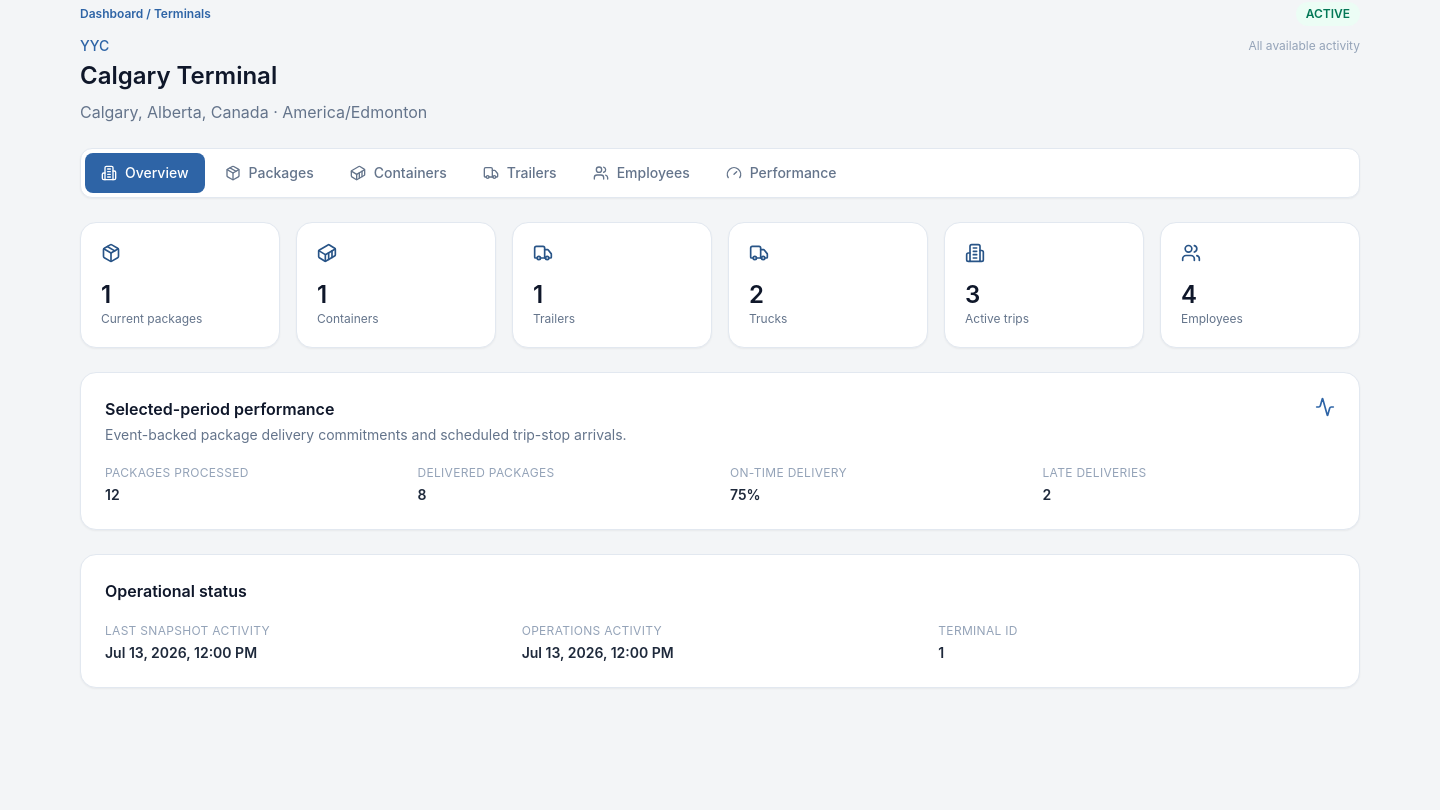
Test: TerminalDetailPage integration › renders linked terminal tabs for inventory, movements, employees, and performance
Expected: the heading "Calgary Terminal" is shown, [80, 61, 277, 90]
Click the tab "Packages".
click(269, 173)  # box [208, 153, 330, 193]
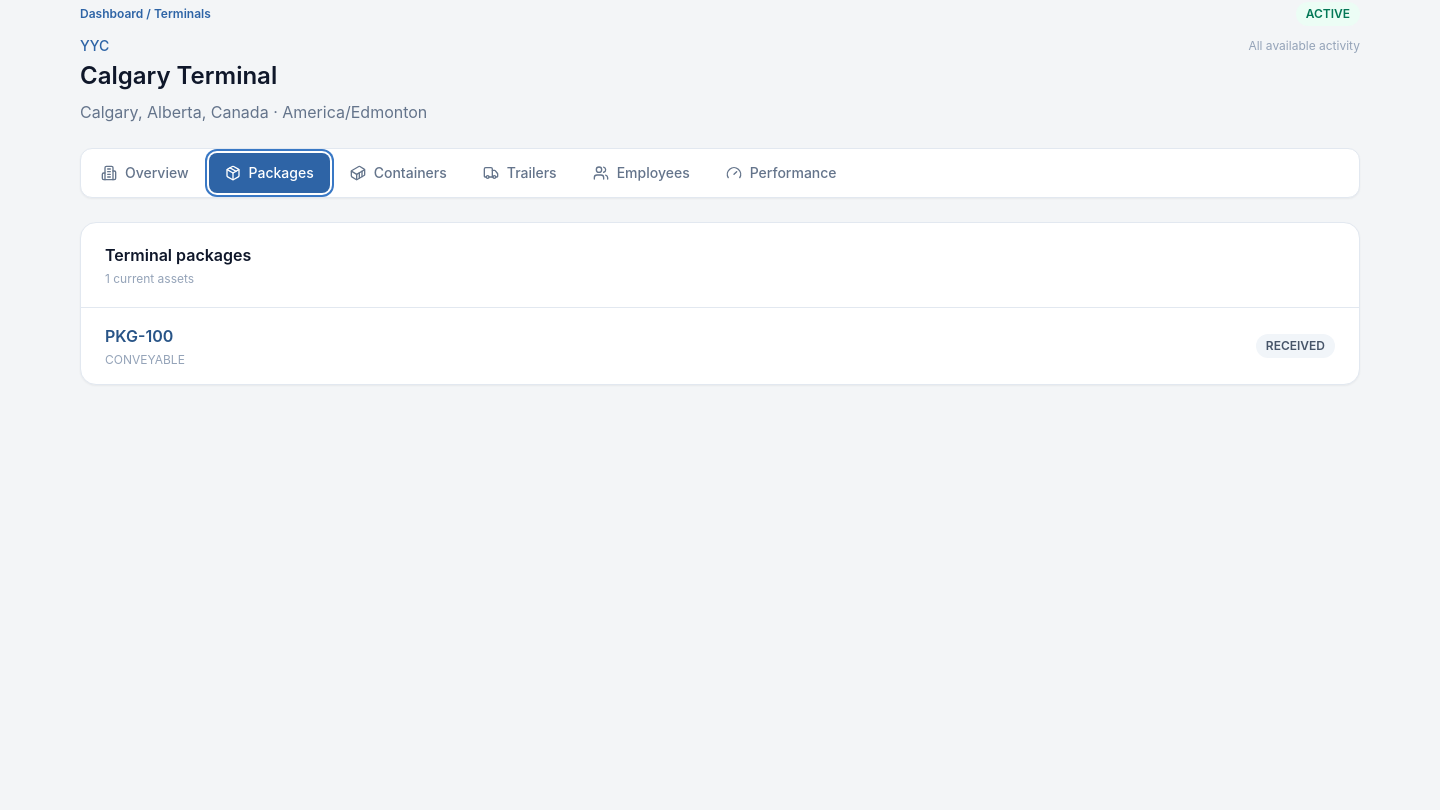
Click the tab "Trailers".
click(520, 173)  # box [467, 153, 573, 193]
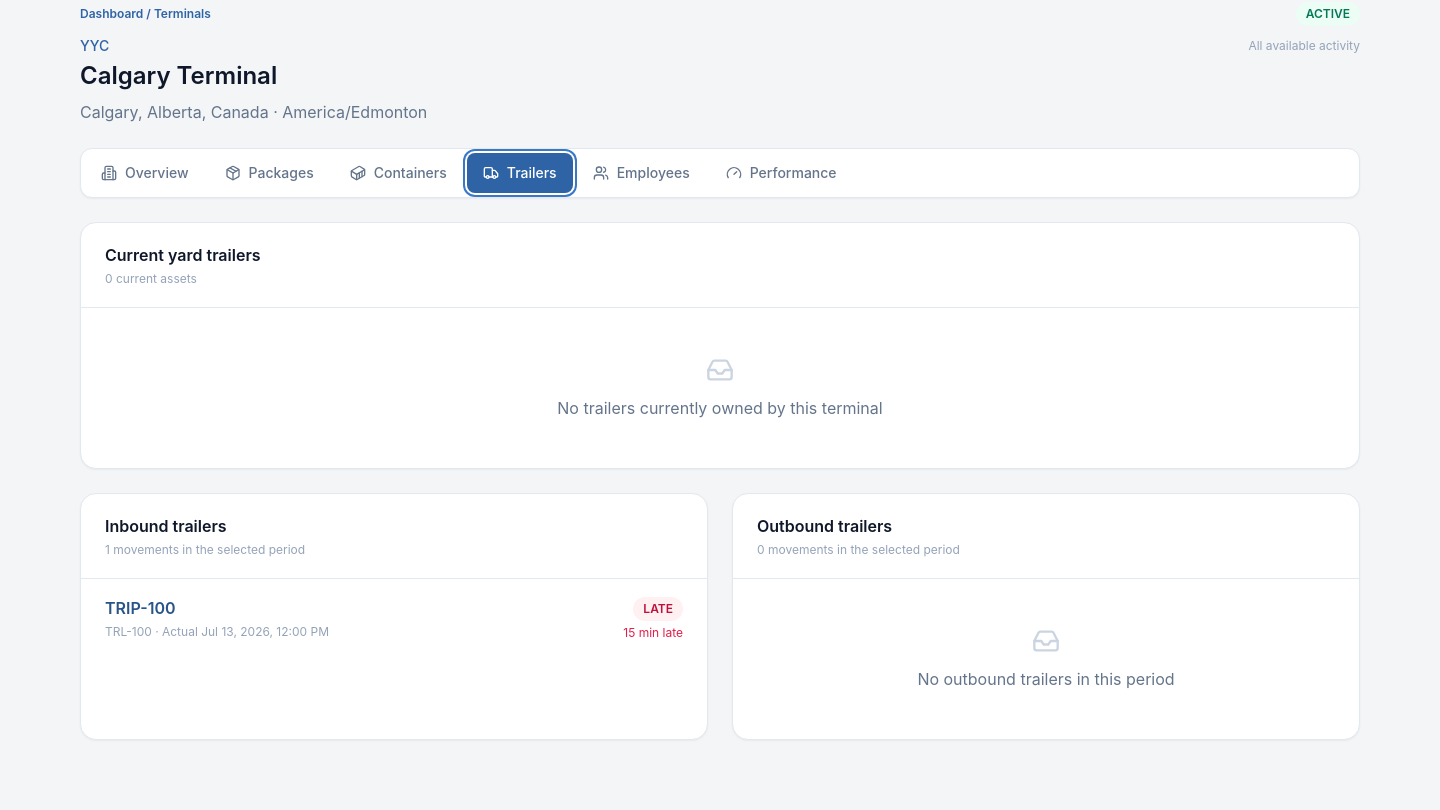
Expected: the heading "Inbound trailers" is shown, [105, 516, 227, 536]
Click the tab "Employees".
click(641, 173)  # box [577, 153, 706, 193]
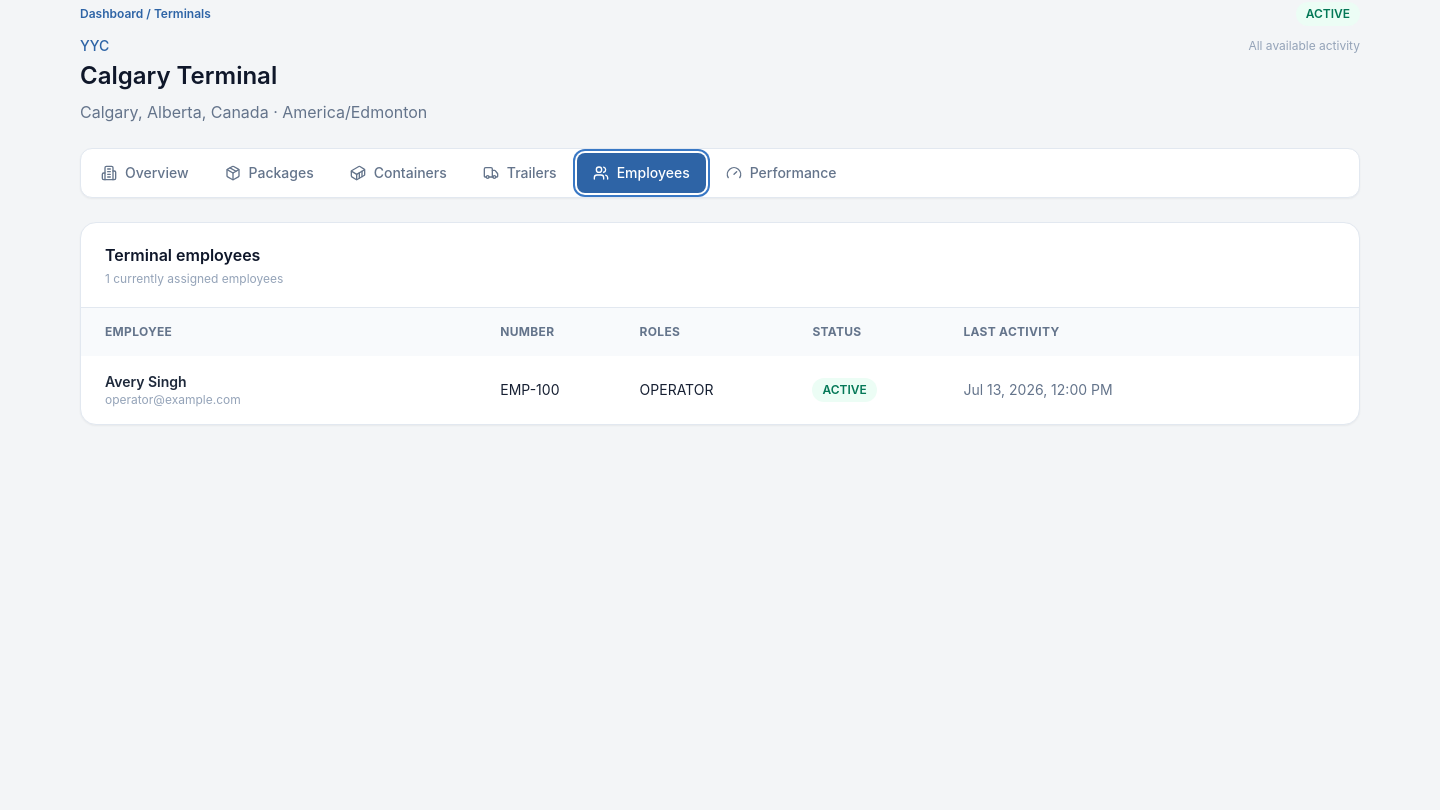
Expected: the text "Avery Singh" is shown, [105, 373, 187, 390]
Click the tab "Performance".
click(781, 173)  # box [710, 153, 853, 193]
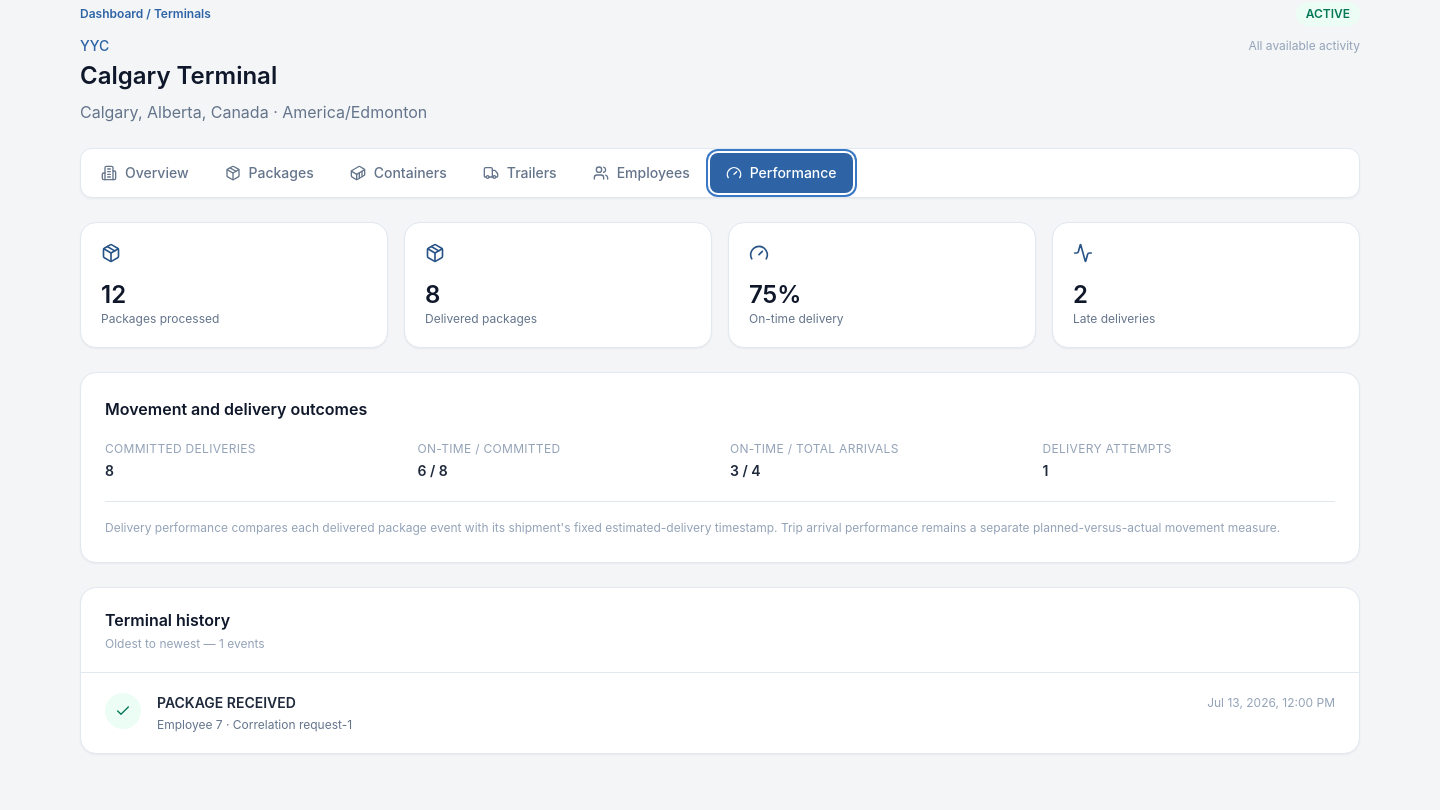
Expected: the text "PACKAGE RECEIVED" is shown, [157, 693, 296, 713]
Expected: the text "75%" is shown, [749, 280, 801, 309]
